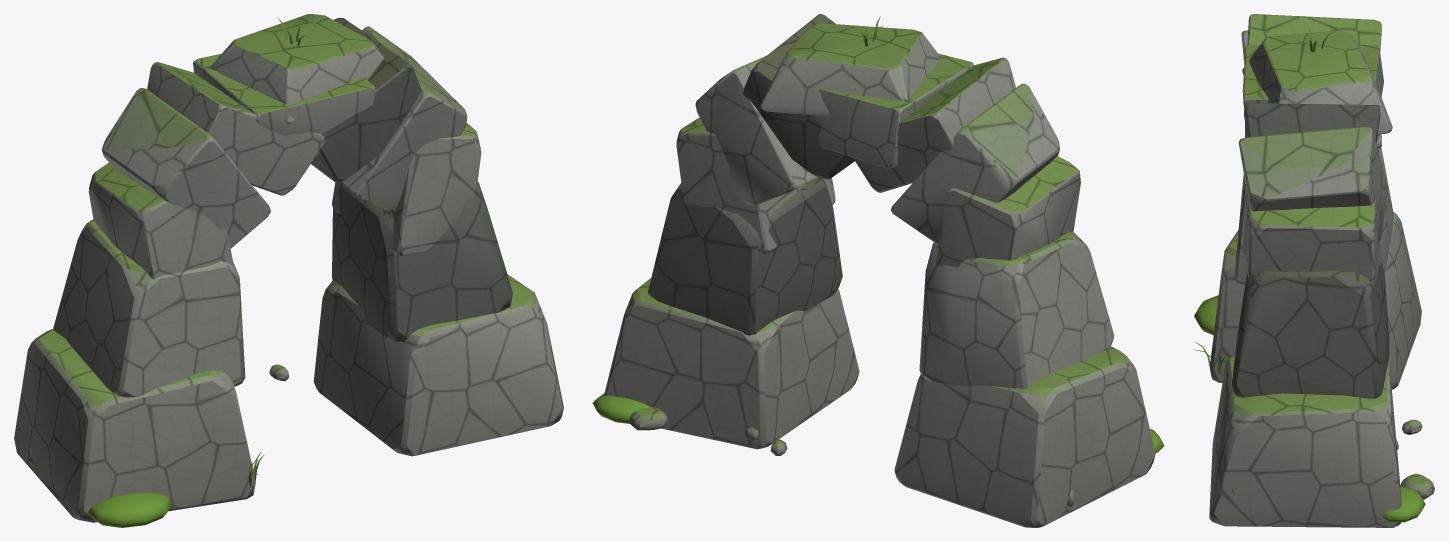
Rendered from rock_arch_small.glb.
The picture shows the model from 3 angles, left to right: view 1: azimuth 30°, elevation 25°; view 2: azimuth 150°, elevation 25°; view 3: azimuth 270°, elevation 25°; orthographic projection. The views are drawn at different scales.
Parts seen in each view (by area): view 1: rock_arch_small; view 2: rock_arch_small; view 3: rock_arch_small.
Boxes of the visible parts, x1,y1,x2,y2 form: rock_arch_small: (14,14,563,527); rock_arch_small: (592,14,1164,527); rock_arch_small: (1193,14,1434,527).
Size of the model in its own units: 5.57 by 4.59 by 2.55.
Materials: 4 (4 with a texture image).
